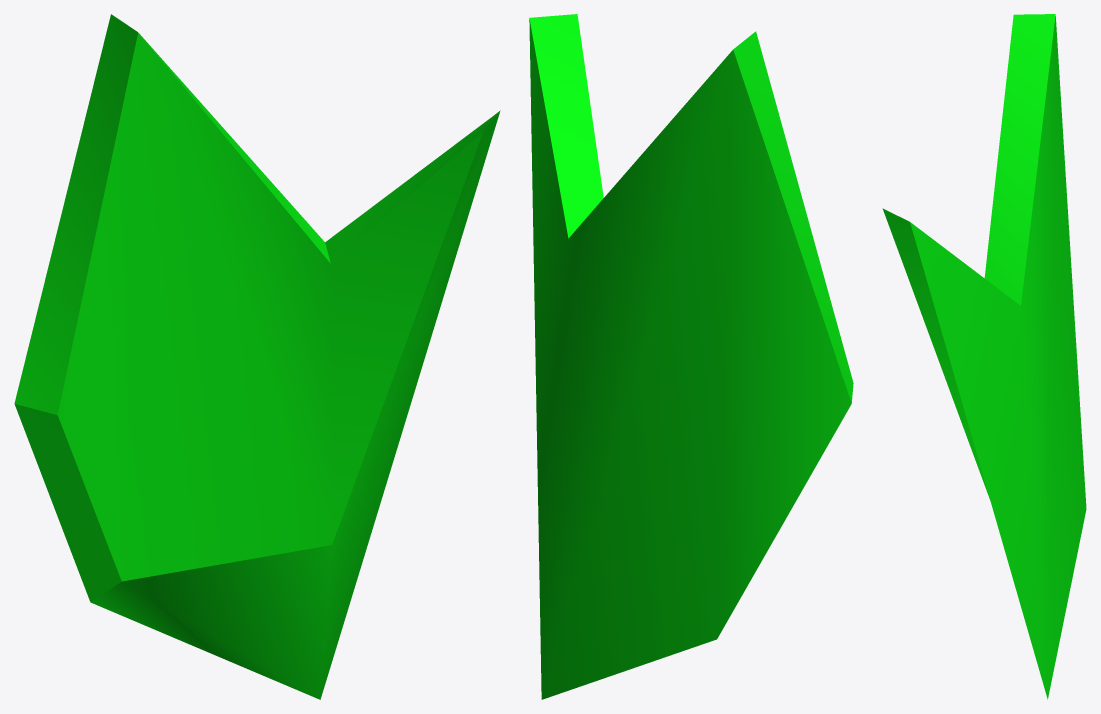
Rendered from metal_piece_E.FBX.
The picture shows the model from 3 angles, left to right: view 1: azimuth 30°, elevation 25°; view 2: azimuth 150°, elevation 25°; view 3: azimuth 270°, elevation 25°; orthographic projection. The views are drawn at different scales.
Parts seen in each view (by area): view 1: metal_piece_E; view 2: metal_piece_E; view 3: metal_piece_E.
Boxes of the visible parts, x1,y1,x2,y2 form: metal_piece_E: (14,14,500,699); metal_piece_E: (529,14,853,699); metal_piece_E: (882,14,1086,699).
Bounding box in the file's own units: 1.3 × 2.21 × 0.6756.
